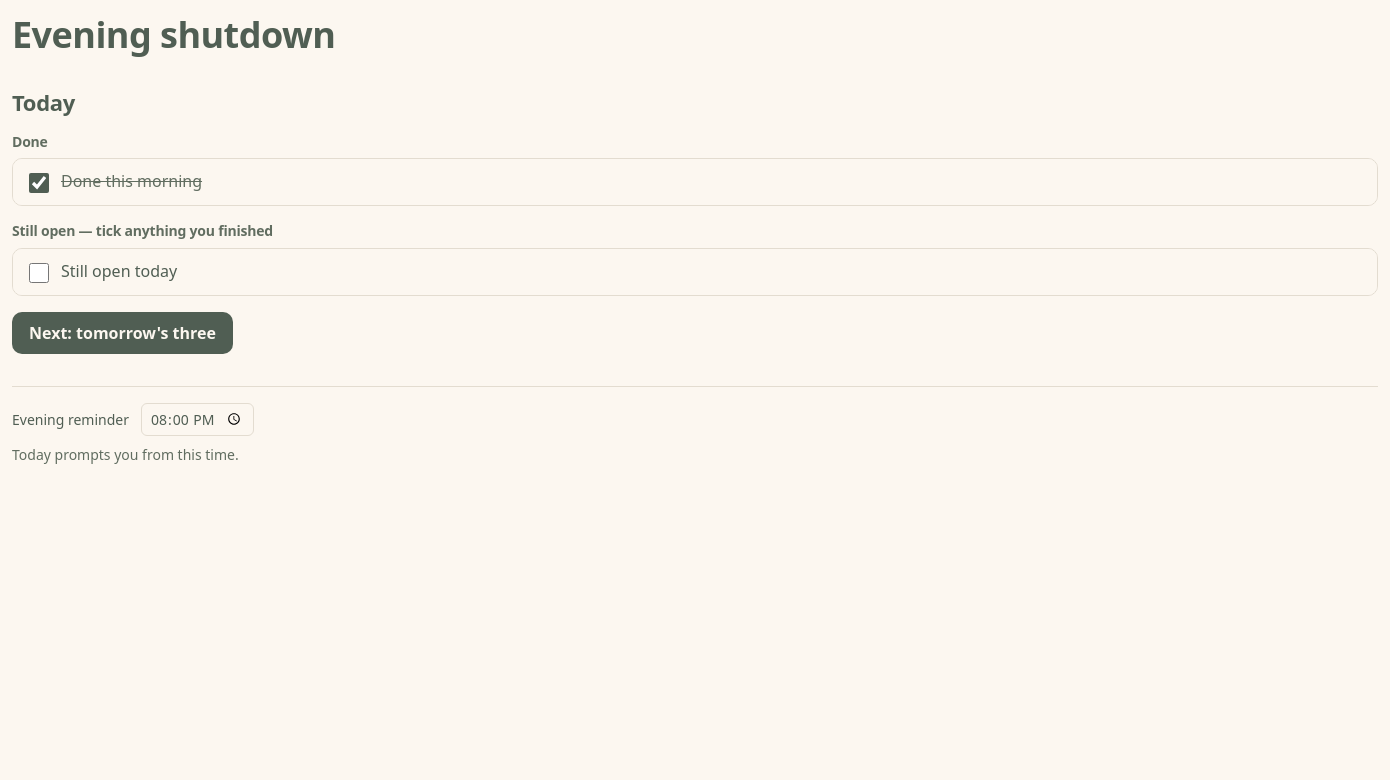
Test case: ShutdownRoute: review, then tomorrow’s three › tomorrow already planned: those three are the starting selection
What coordinates should you click on to do the following:
click the button "Next: tomorrow's three"
I would click on:
 (122, 332)
Its box is [12,312,233,354].
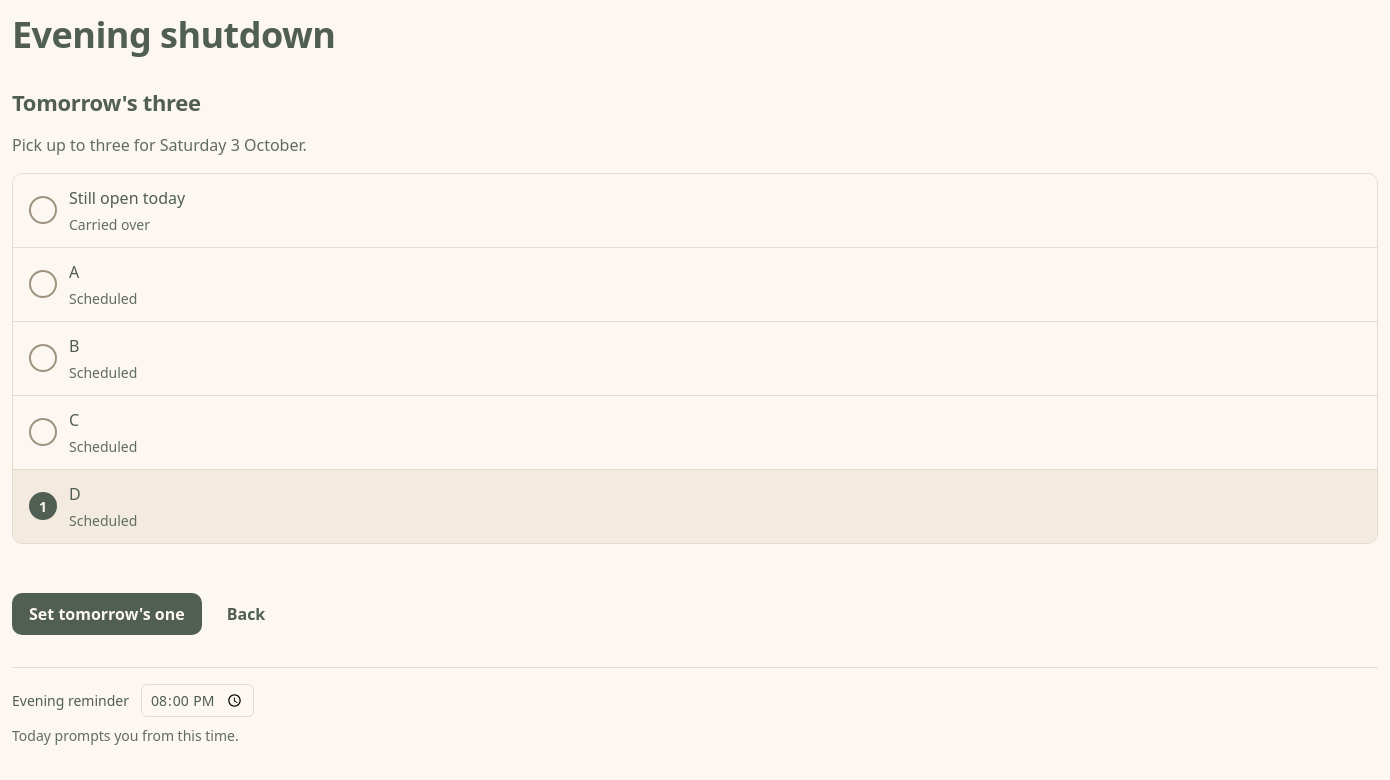
Check: the button "Set tomorrow's one" is shown, box [12,593,202,635]
